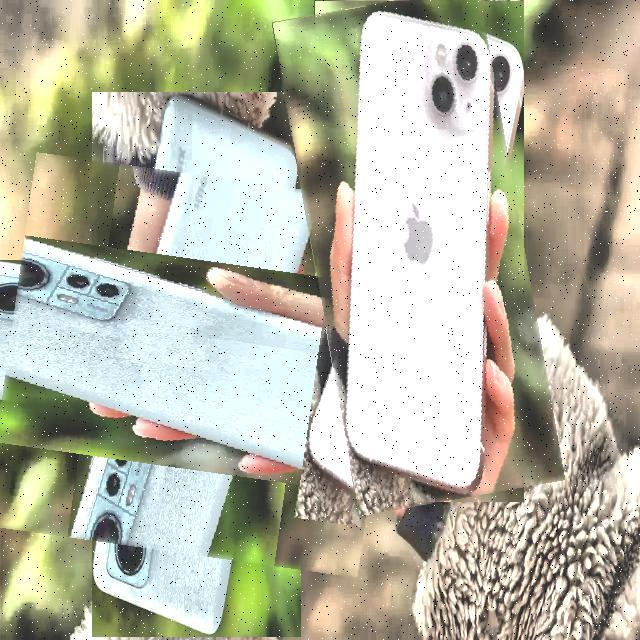Phone: (0, 164, 397, 565), (293, 0, 544, 509)
